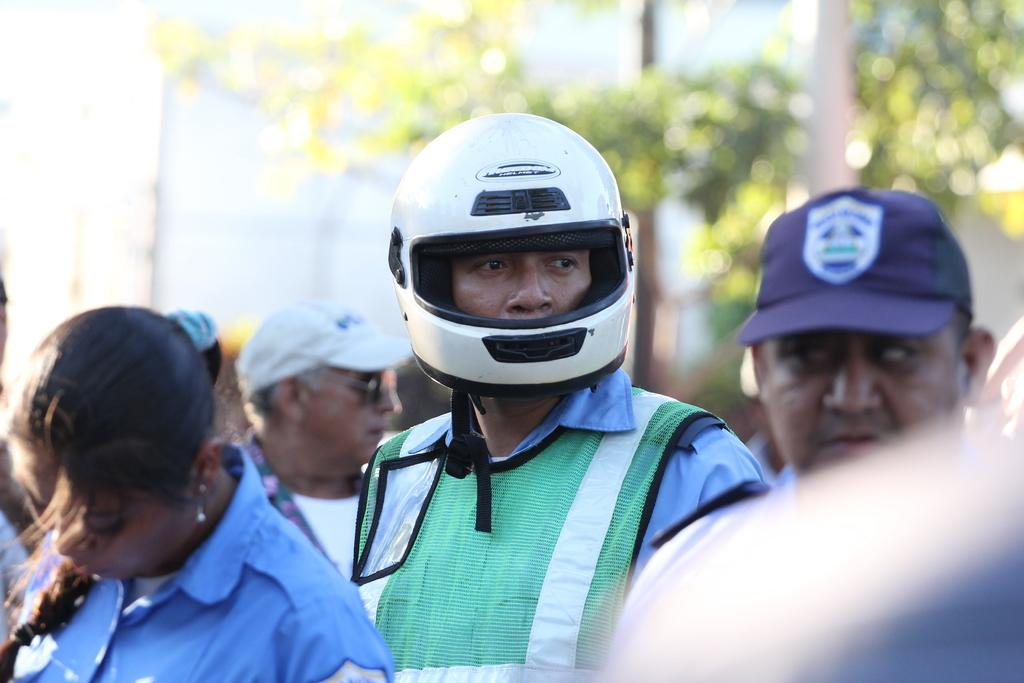helmet: (388, 112, 635, 399)
nohelmet: (733, 183, 999, 523), (9, 302, 224, 586), (234, 298, 422, 473)
